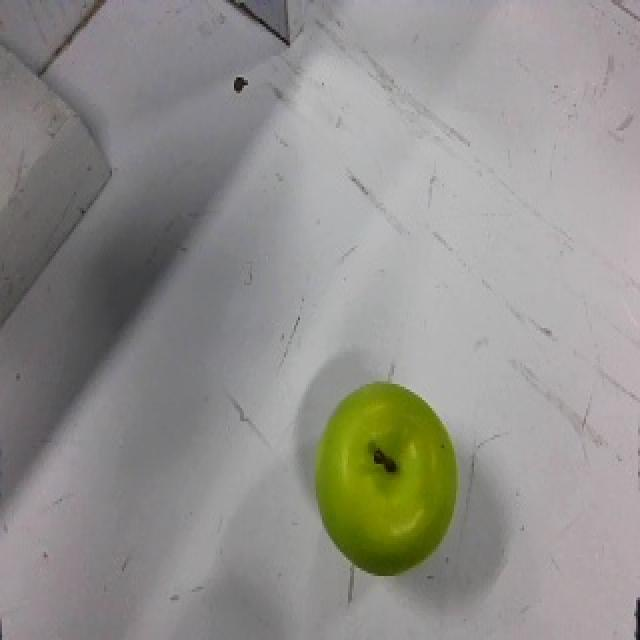apple: (313, 379, 461, 578)
